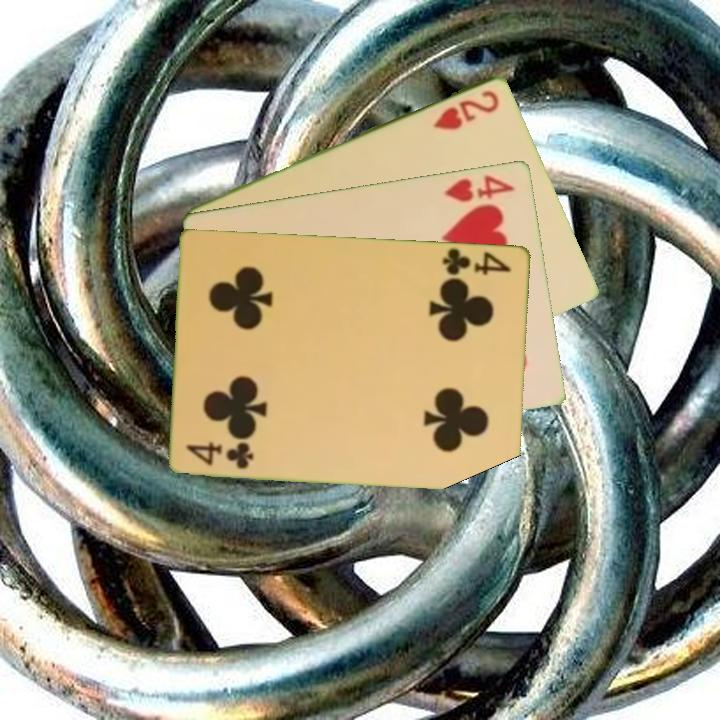2h: (429, 86, 502, 133)
4c: (440, 244, 514, 278), (183, 439, 257, 472)
4h: (441, 171, 518, 204)
